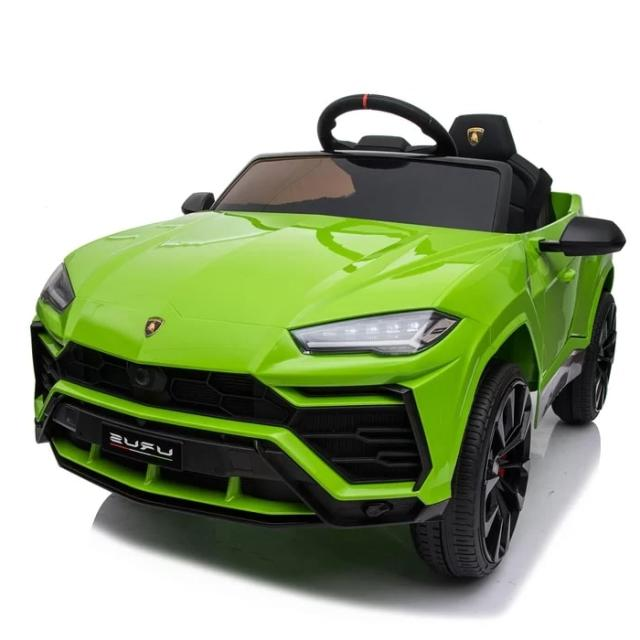Car: (30, 92, 626, 580)
